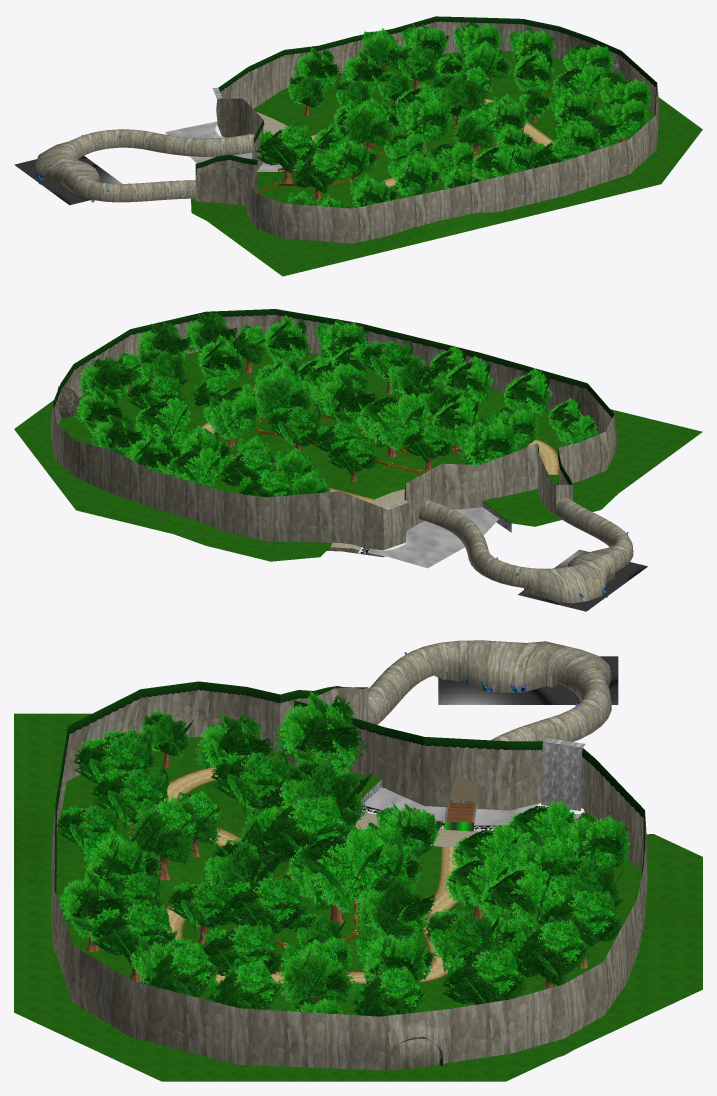
Rendered from course.obj.
3 views of the same model, one above another, from view 1: azimuth 30°, elevation 25°; view 2: azimuth 150°, elevation 25°; view 3: azimuth 270°, elevation 25° (orthographic). The views are drawn at different scales.
Visible parts, largest first — view 1: Tex023, poly_wallR, poly_grass, wallkiwa, water0, water, Tex020, poly_road; view 2: Tex023, poly_wallR, poly_grass, wallkiwa, water, water0, poly_road, Tex020, poly_sand, Sphere001; view 3: Tex023, poly_wallR, poly_grass, wallkiwa, poly_road, water0, Vtaki, water, Tex020, poly_sand, poly_jari.
Part boxes in pixels (left/top/right/bottom): Tex023: left=255, top=22, right=651, bottom=208; poly_wallR: left=32, top=21, right=659, bottom=243; poly_grass: left=191, top=50, right=702, bottom=276; wallkiwa: left=195, top=16, right=656, bottom=180; water0: left=14, top=156, right=122, bottom=205; water: left=165, top=121, right=282, bottom=171; Tex020: left=282, top=64, right=624, bottom=201; poly_road: left=311, top=98, right=554, bottom=208; Tex023: left=73, top=312, right=597, bottom=497; poly_wallR: left=50, top=314, right=632, bottom=604; poly_grass: left=14, top=350, right=702, bottom=561; wallkiwa: left=53, top=309, right=614, bottom=499; water: left=368, top=507, right=498, bottom=568; water0: left=518, top=549, right=647, bottom=611; poly_road: left=201, top=387, right=558, bottom=502; Tex020: left=95, top=353, right=529, bottom=482; poly_sand: left=331, top=489, right=404, bottom=556; Sphere001: left=57, top=386, right=80, bottom=417; Tex023: left=56, top=691, right=630, bottom=1016; poly_wallR: left=51, top=640, right=647, bottom=1070; poly_grass: left=14, top=713, right=702, bottom=1081; wallkiwa: left=54, top=681, right=645, bottom=894; poly_road: left=164, top=766, right=458, bottom=983; water0: left=438, top=656, right=618, bottom=704; Vtaki: left=541, top=737, right=585, bottom=810; water: left=363, top=787, right=585, bottom=825; Tex020: left=86, top=749, right=587, bottom=1003; poly_sand: left=355, top=810, right=577, bottom=846; poly_jari: left=376, top=672, right=611, bottom=801.
Size of the model in its own units: 103787 by 14280 by 69804.
